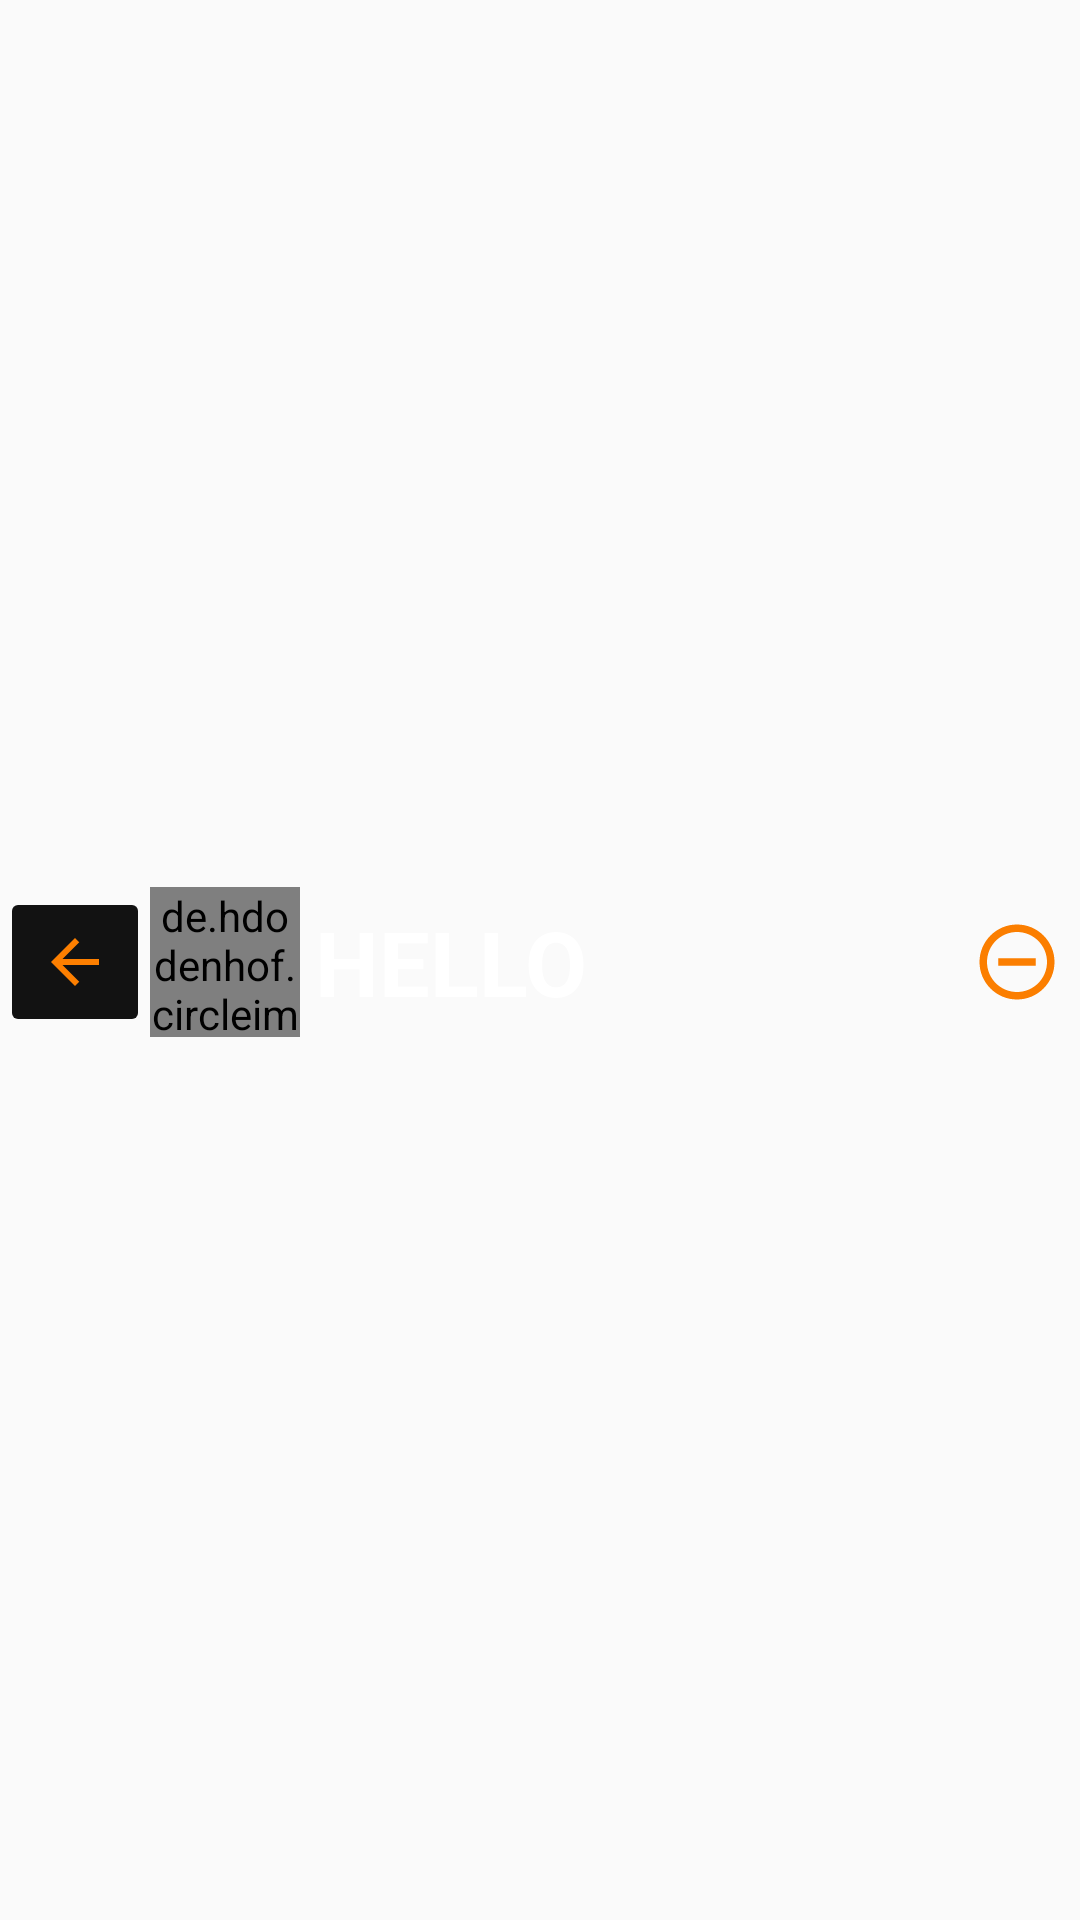

Icon click points for this 1080px×1920px phone screenshot, format (x,y):
back: (75,962)
remove circle: (1017,962)
